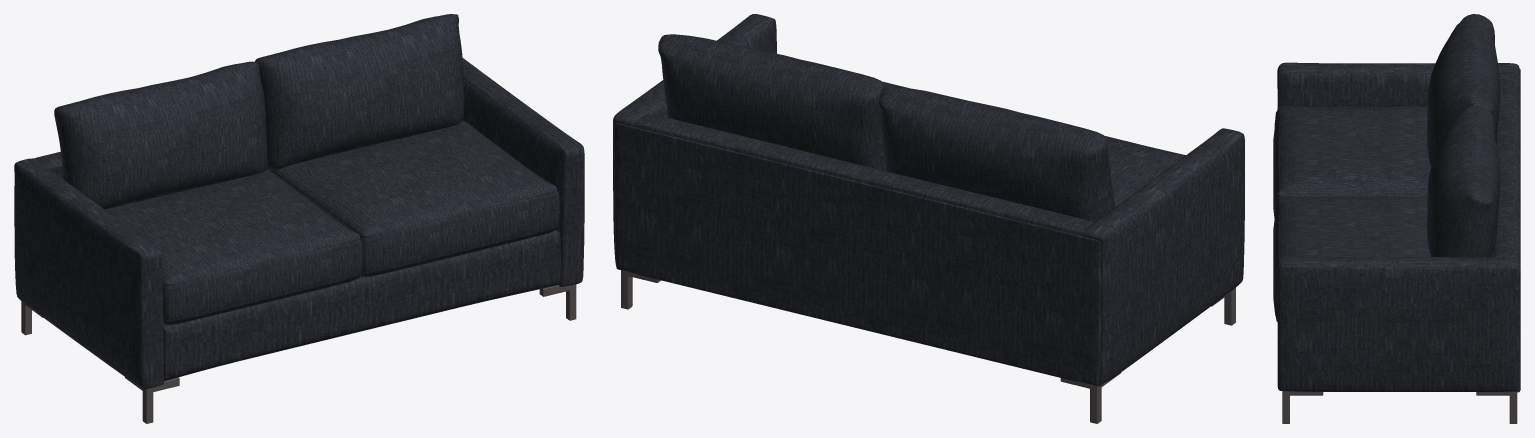
The model's file is sofa_B07B4M6BS1.glb.
The picture shows the model from 3 angles, left to right: view 1: azimuth 30°, elevation 25°; view 2: azimuth 150°, elevation 25°; view 3: azimuth 270°, elevation 25°; orthographic projection. The views are drawn at different scales.
Visible parts, largest first — view 1: RootNode; view 2: RootNode; view 3: RootNode.
Part boxes in pixels (x1,y1,x2,y2): RootNode: (14,14,584,423); RootNode: (613,14,1244,423); RootNode: (1273,14,1520,423).
Bounding box in the file's own units: 1.72 × 0.8625 × 0.8657.
1 material, 1 textured.
